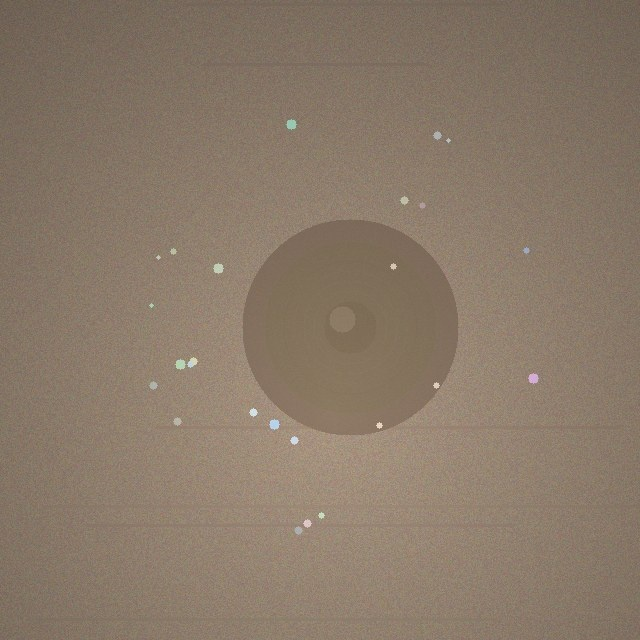overburn: (242, 219, 458, 435)
